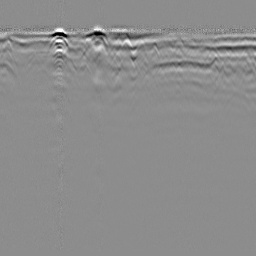cavity: (121, 36, 132, 48)
